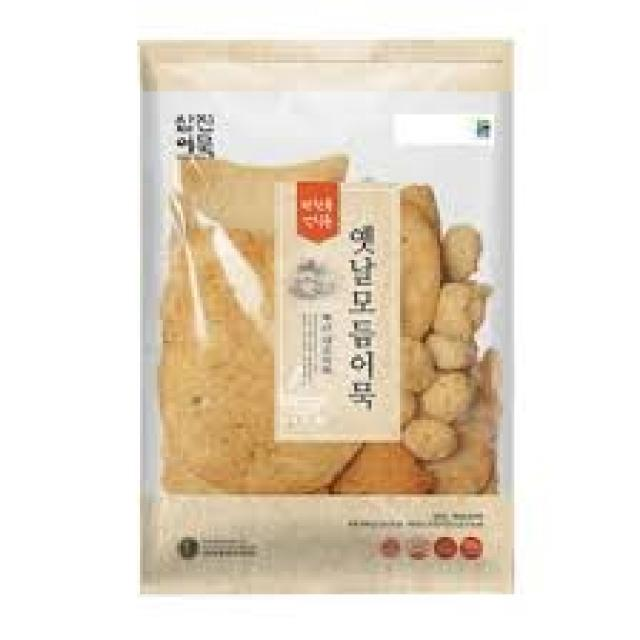fish_cake: (132, 34, 517, 594)
